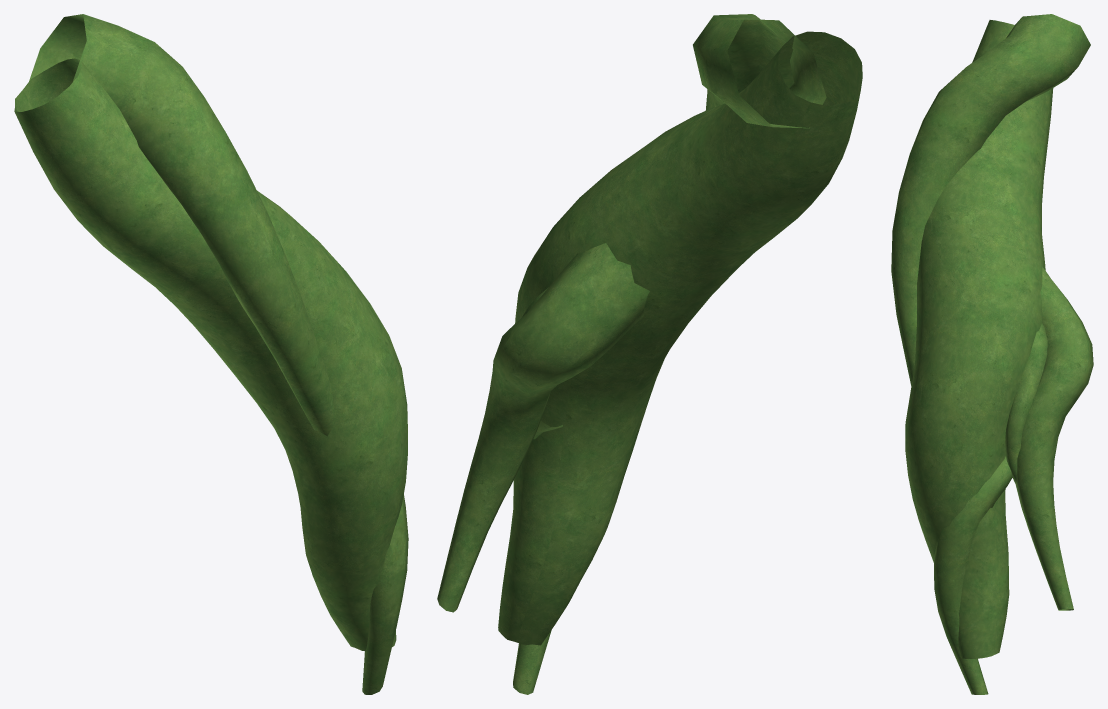
Rendered from SM_ENV_KNFRST_TreeRoot_B.FBX.
The picture shows the model from 3 angles, left to right: view 1: azimuth 30°, elevation 25°; view 2: azimuth 150°, elevation 25°; view 3: azimuth 270°, elevation 25°; orthographic projection. The views are drawn at different scales.
Visible parts, largest first — view 1: SM_ENV_KNFRST_TreeRoot_B; view 2: SM_ENV_KNFRST_TreeRoot_B; view 3: SM_ENV_KNFRST_TreeRoot_B.
Part boxes in pixels (x1=…): SM_ENV_KNFRST_TreeRoot_B: x1=14, y1=14, x2=408, y2=694; SM_ENV_KNFRST_TreeRoot_B: x1=437, y1=14, x2=862, y2=694; SM_ENV_KNFRST_TreeRoot_B: x1=891, y1=14, x2=1093, y2=694.
Size of the model in its own units: 1409 by 2669 by 839.
